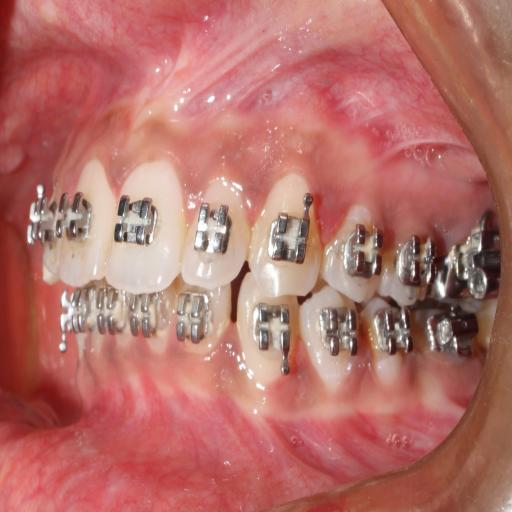correct_brace: (321, 200, 384, 305), (304, 283, 362, 393), (266, 194, 316, 264), (115, 190, 160, 250), (318, 300, 358, 362), (193, 200, 229, 260)
incorrect_brace: (182, 176, 247, 285), (342, 219, 382, 283)
